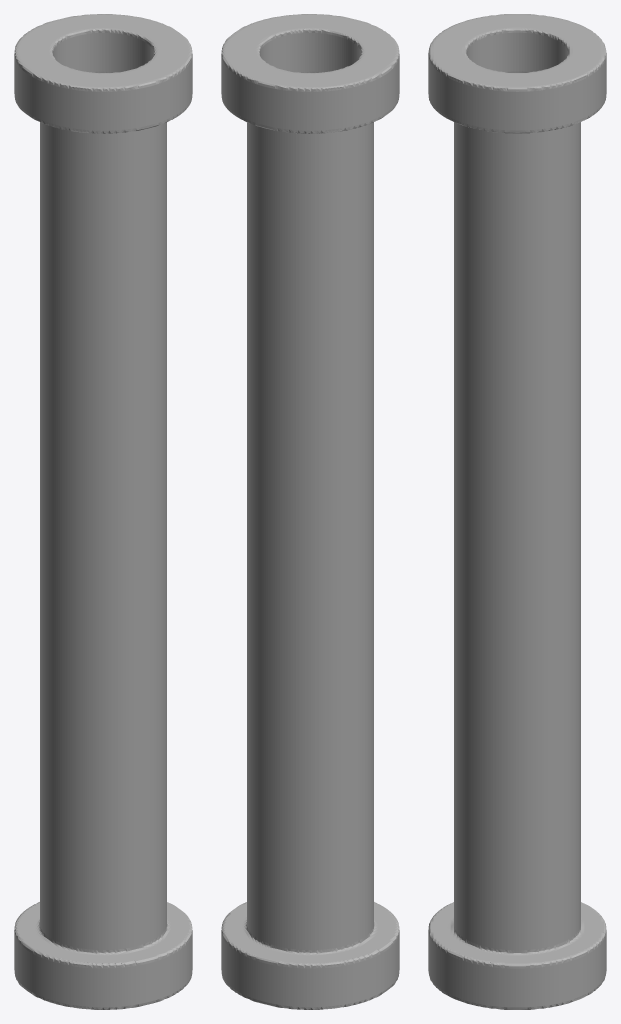
File: Pipe13.fbx
The picture shows the model from 3 angles, left to right: view 1: azimuth 30°, elevation 25°; view 2: azimuth 150°, elevation 25°; view 3: azimuth 270°, elevation 25°; orthographic projection.
Parts seen in each view (by area): view 1: Pipe13; view 2: Pipe13; view 3: Pipe13.
Part boxes in pixels (<box>): Pipe13: <box>14,14,192,1009</box>; Pipe13: <box>221,14,399,1009</box>; Pipe13: <box>428,14,606,1009</box>.
Size of the model in its own units: 199 by 1138 by 199.
